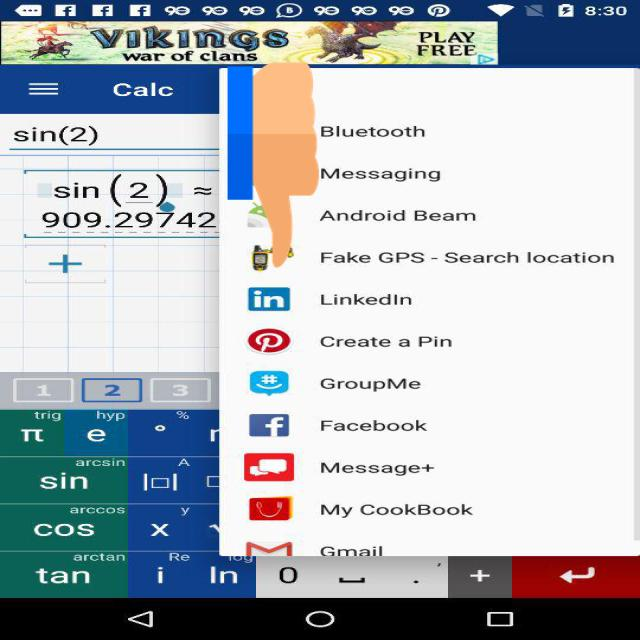obstruction: (227, 57, 319, 273)
